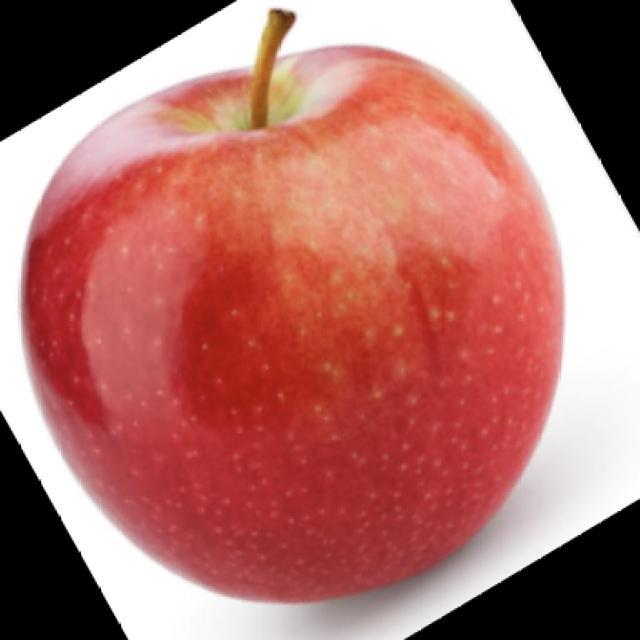Fresh Apple: (28, 55, 557, 570)
